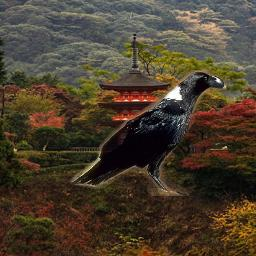Crow: (70, 70, 227, 196)
